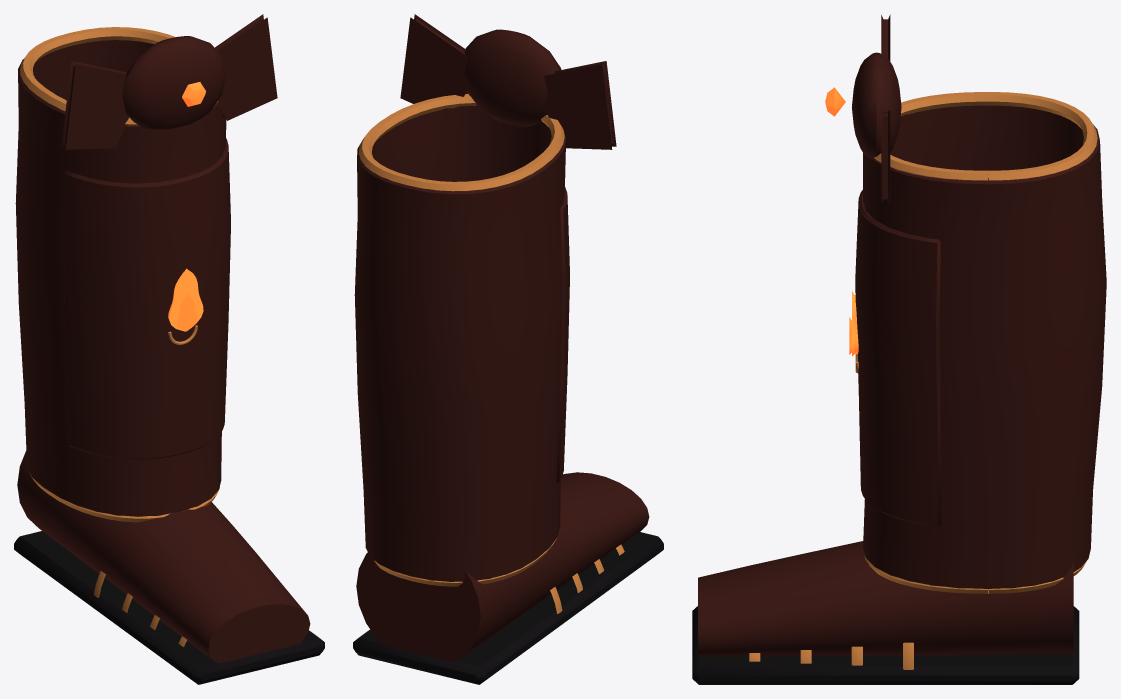
The model's file is asc_titanblood_champion_boots.glb.
3 renders of one model, left to right at view 1: azimuth 30°, elevation 25°; view 2: azimuth 150°, elevation 25°; view 3: azimuth 270°, elevation 25°, orthographic. The views are drawn at different scales.
Visible parts, largest first — view 1: asc_titanblood_champion_boots, AT_foot_L; view 2: asc_titanblood_champion_boots, AT_foot_L; view 3: asc_titanblood_champion_boots, AT_foot_L.
Part boxes in pixels (x1=…): asc_titanblood_champion_boots: x1=15, y1=14, x2=277, y2=522; AT_foot_L: x1=14, y1=451, x2=324, y2=684; asc_titanblood_champion_boots: x1=354, y1=14, x2=616, y2=586; AT_foot_L: x1=353, y1=472, x2=663, y2=684; asc_titanblood_champion_boots: x1=825, y1=14, x2=1106, y2=593; AT_foot_L: x1=692, y1=541, x2=1079, y2=684.
Bounding box in the file's own units: 0.2244 × 0.5768 × 0.3641.
